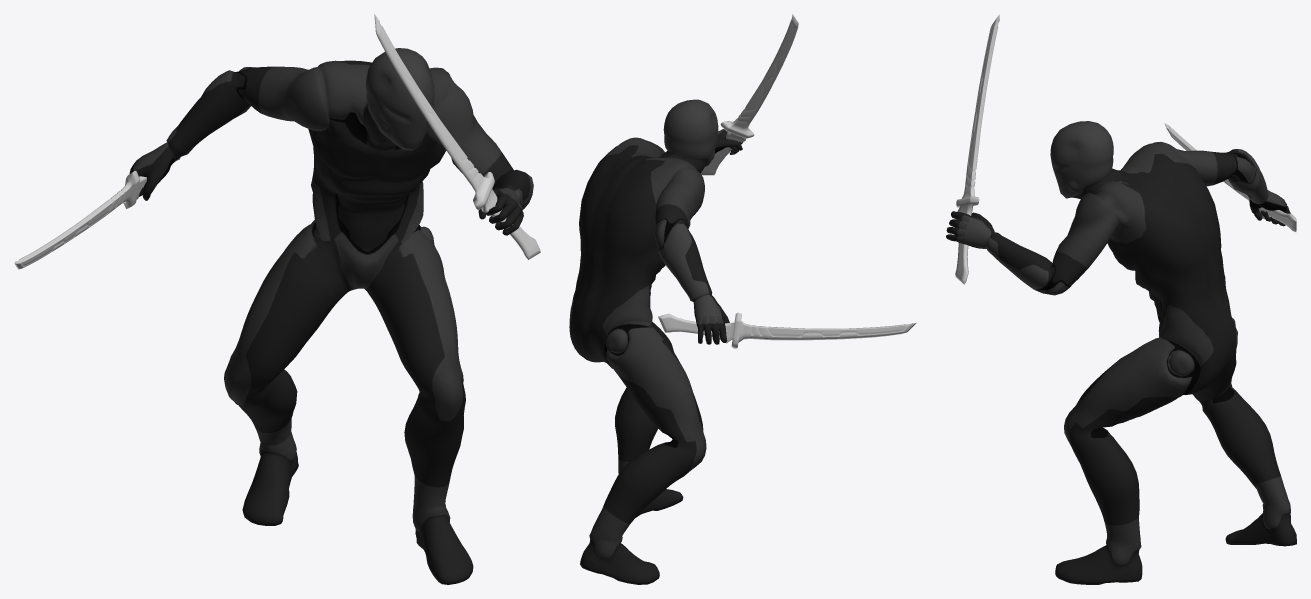
The picture shows the model from 3 angles, left to right: view 1: azimuth 30°, elevation 25°; view 2: azimuth 150°, elevation 25°; view 3: azimuth 270°, elevation 25°; orthographic projection. The views are drawn at different scales.
Parts seen in each view (by area): view 1: Cyborg_Ninja_Killer, Sword_l, Sword_l001; view 2: Cyborg_Ninja_Killer, Sword_l001, Sword_l; view 3: Cyborg_Ninja_Killer, Sword_l, Sword_l001.
Boxes of the visible parts, left/top/right/bottom form: Cyborg_Ninja_Killer: left=129, top=48, right=533, bottom=584; Sword_l: left=374, top=14, right=540, bottom=259; Sword_l001: left=14, top=157, right=180, bottom=269; Cyborg_Ninja_Killer: left=569, top=99, right=743, bottom=584; Sword_l001: left=658, top=312, right=916, bottom=348; Sword_l: left=700, top=14, right=798, bottom=175; Cyborg_Ninja_Killer: left=946, top=121, right=1296, bottom=584; Sword_l: left=955, top=14, right=999, bottom=284; Sword_l001: left=1164, top=123, right=1296, bottom=231.
Size of the model in its own units: 138 by 184 by 114.
